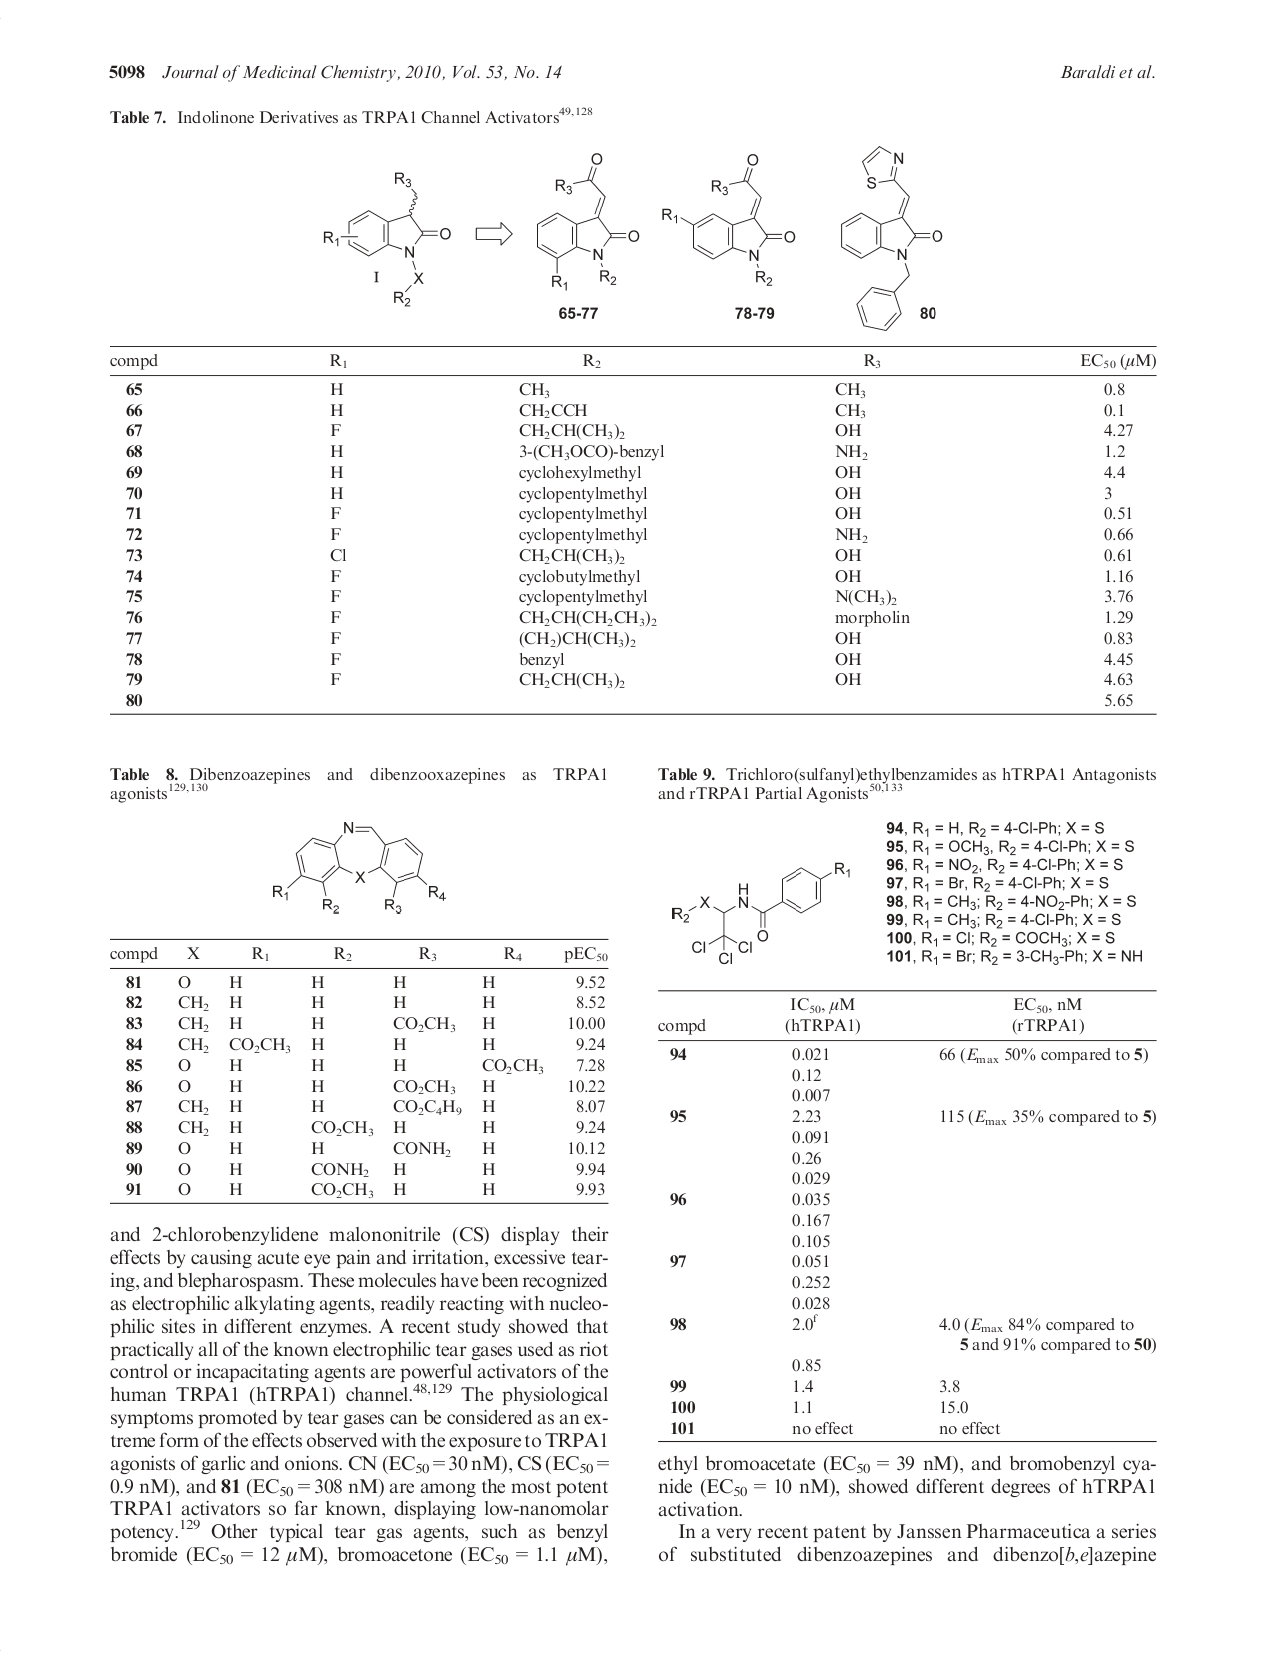exist_molecular: (658, 851, 852, 967), (657, 153, 801, 297), (323, 165, 461, 314), (840, 137, 943, 335), (262, 818, 451, 918), (537, 146, 648, 293)
